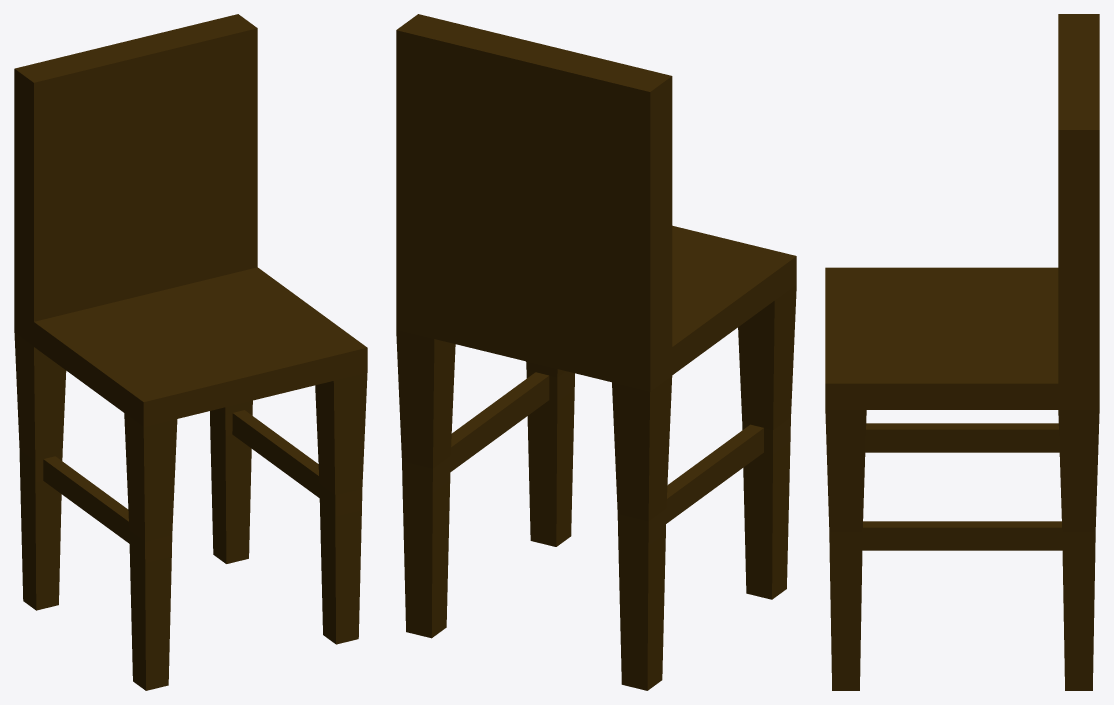
Rendered from Chair.fbx.
3 views of the same model, side by side, from view 1: azimuth 30°, elevation 25°; view 2: azimuth 150°, elevation 25°; view 3: azimuth 270°, elevation 25° (orthographic). The views are drawn at different scales.
Visible parts, largest first — view 1: Cylinder; view 2: Cylinder; view 3: Cylinder.
Boxes of the visible parts, x1=… form: Cylinder: x1=14, y1=14, x2=367, y2=690; Cylinder: x1=396, y1=14, x2=796, y2=690; Cylinder: x1=825, y1=14, x2=1099, y2=690.
Bounding box in the file's own units: 235 × 534 × 235.
